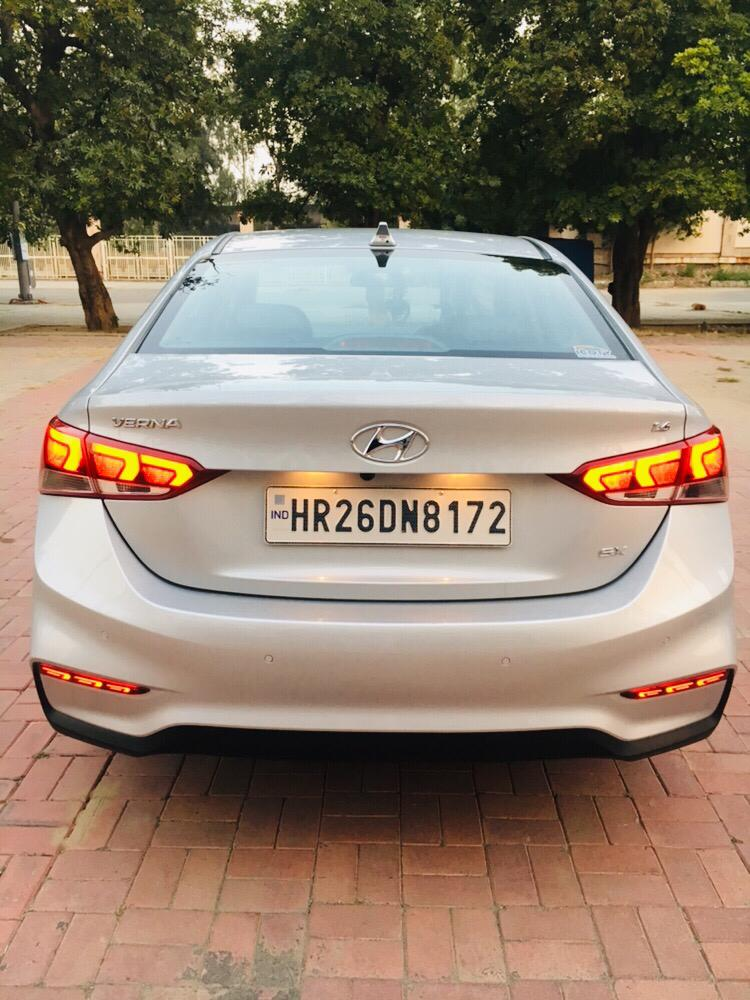numberplate: (264, 481, 516, 548)
